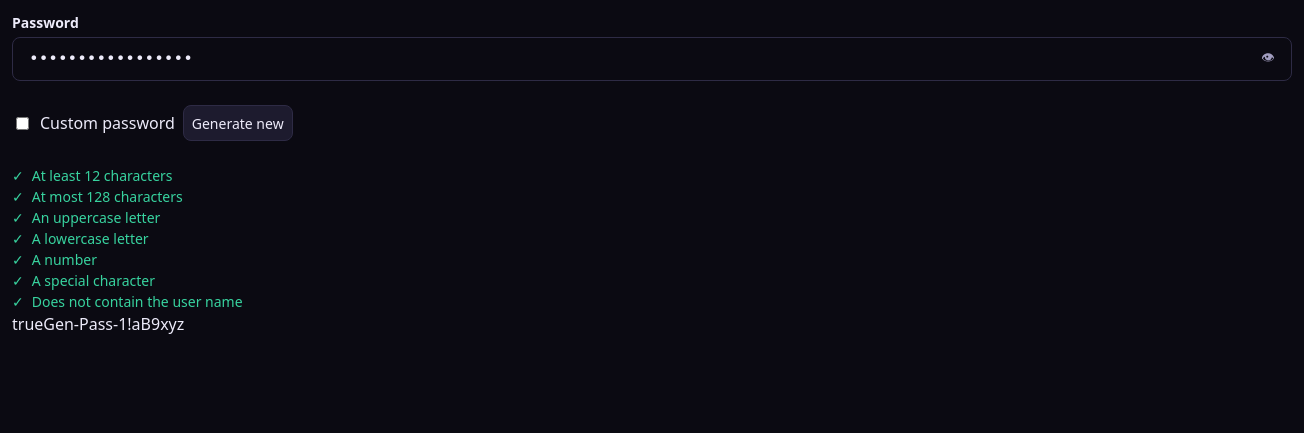
it: PasswordField › custom mode shows two fields and blocks until they match (PWD-031)
This screenshot has width=1304, height=433.
Check: the element with test id "value" does not show ""
Click the checkbox labelled "Custom password" at [22, 123], box left=16, top=116, right=29, bottom=130
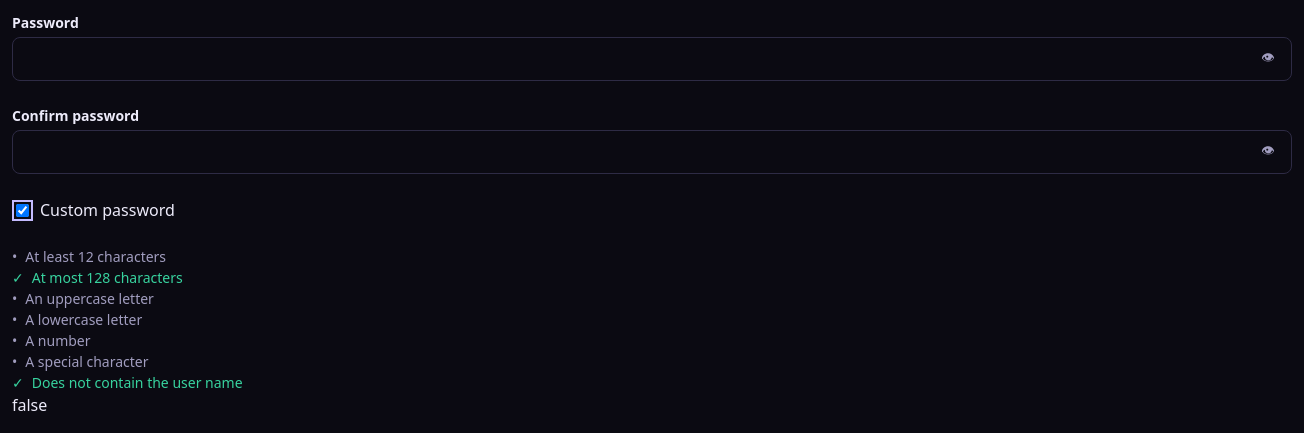
Type "Abcdefgh1!xyz" into the password field labelled "Password" at [652, 59], box left=12, top=37, right=1292, bottom=81
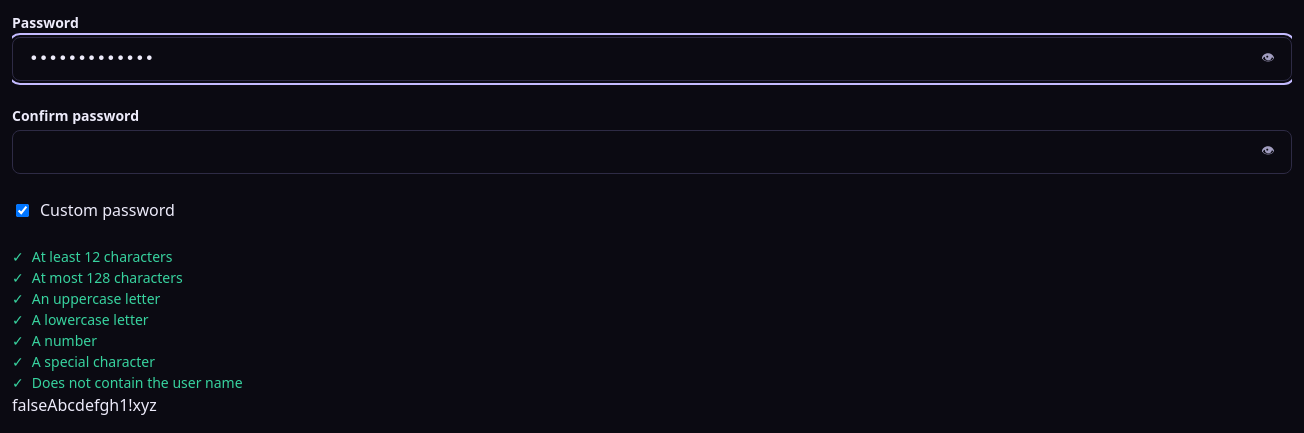
Check: the text with test id "valid" reads "false", box left=12, top=394, right=47, bottom=416
Type "Abcdefgh1!xyz" into the password field labelled "Confirm password" at [652, 152], box left=12, top=130, right=1292, bottom=174
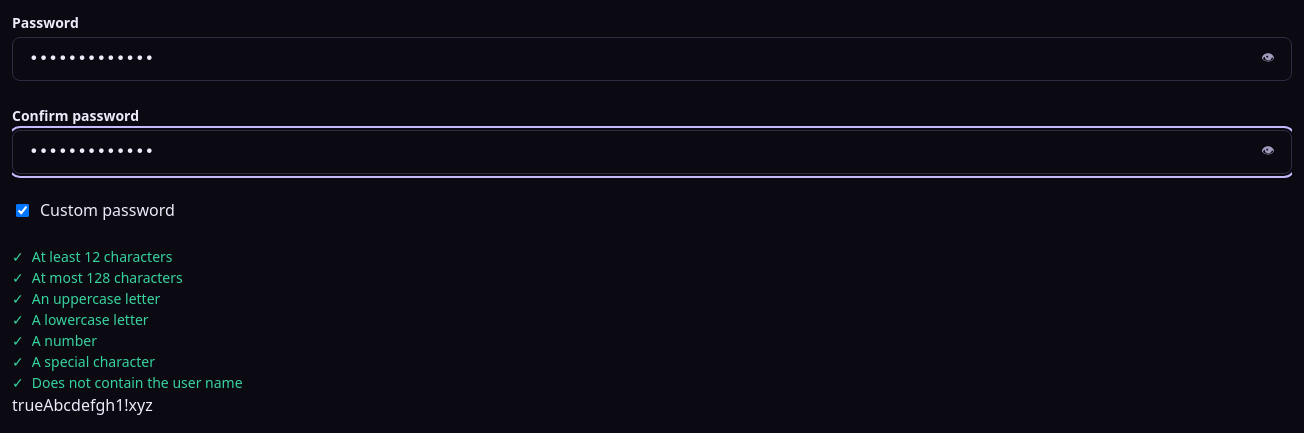
Check: the text with test id "valid" reads "true", box left=12, top=394, right=43, bottom=416
